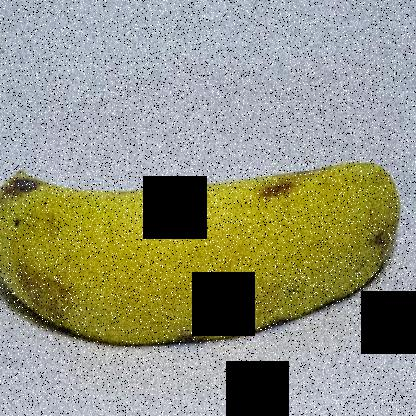freshripe: (1, 139, 408, 371)
